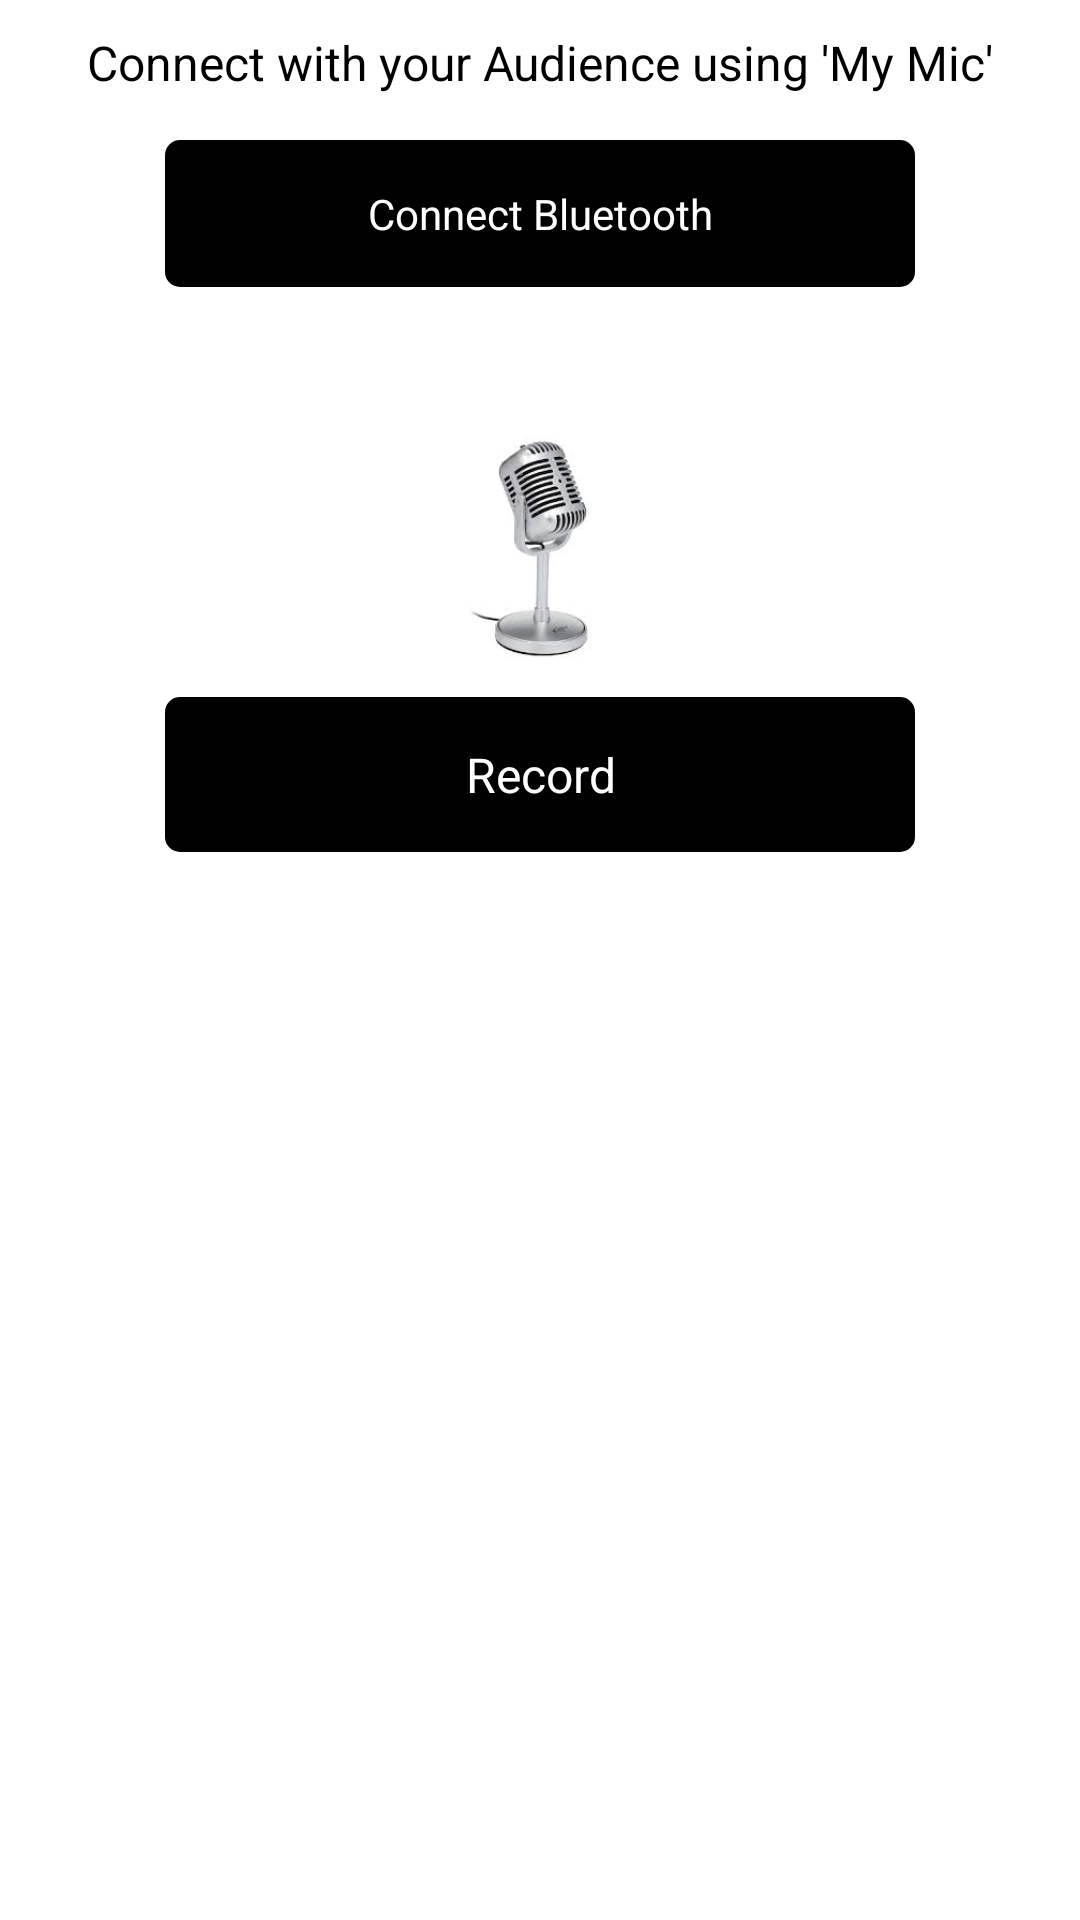

Locate icon controls on the screen. Image size 1080 × 1920, boxes as (x1, y1, x2, y2).
images mic: (472, 441, 587, 656)
